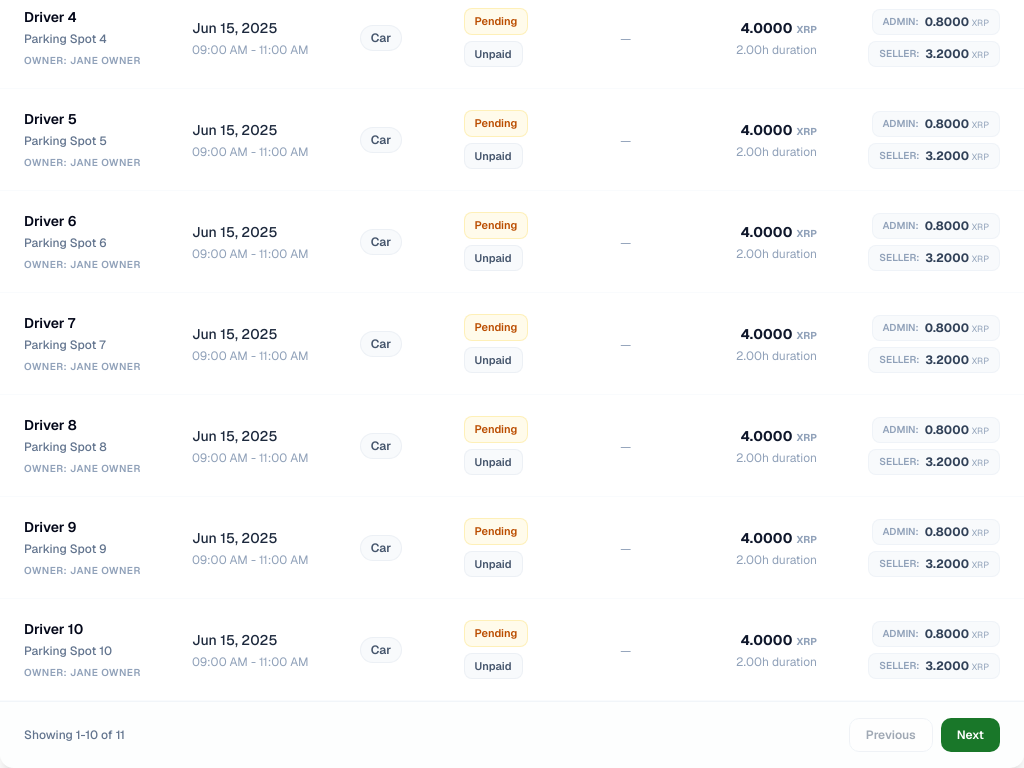
Scenario: BookingTable Component › Pagination › Next navigates to page 2
(page scrolled)
What coordinates should you click on to do the following:
click the button "Next"
I would click on:
 (970, 735)
Its box is x1=941 y1=718 x2=1000 y2=752.
(page scrolled)
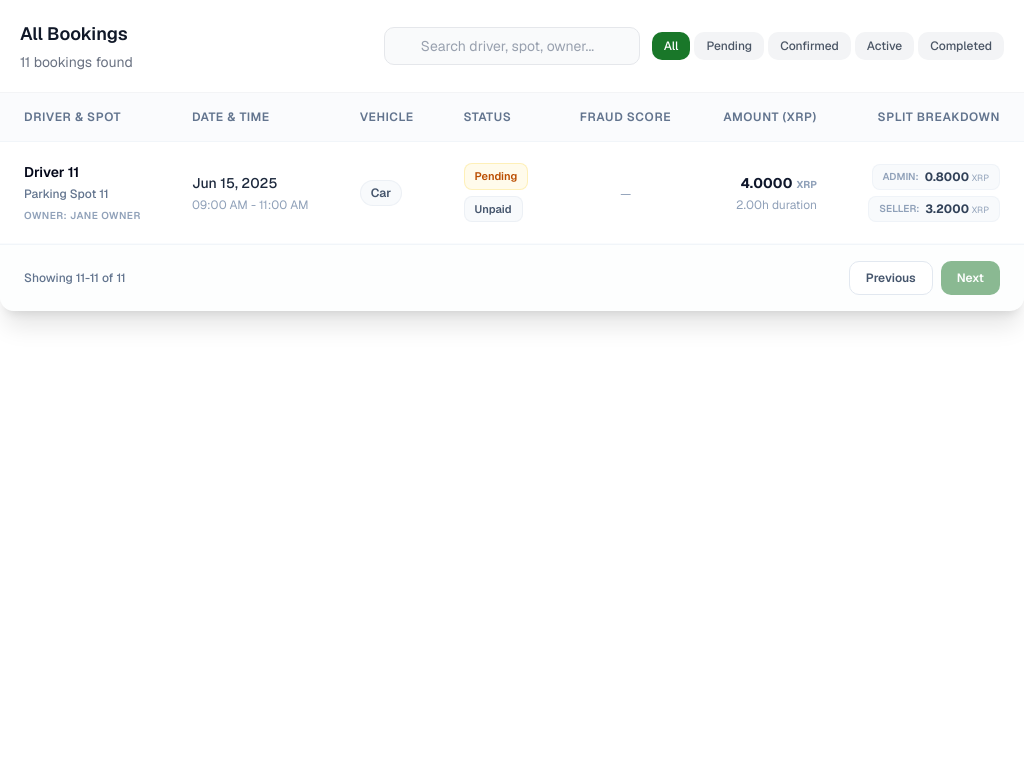
Result: the text "Driver 11" is shown at x1=24 y1=163 x2=79 y2=181
